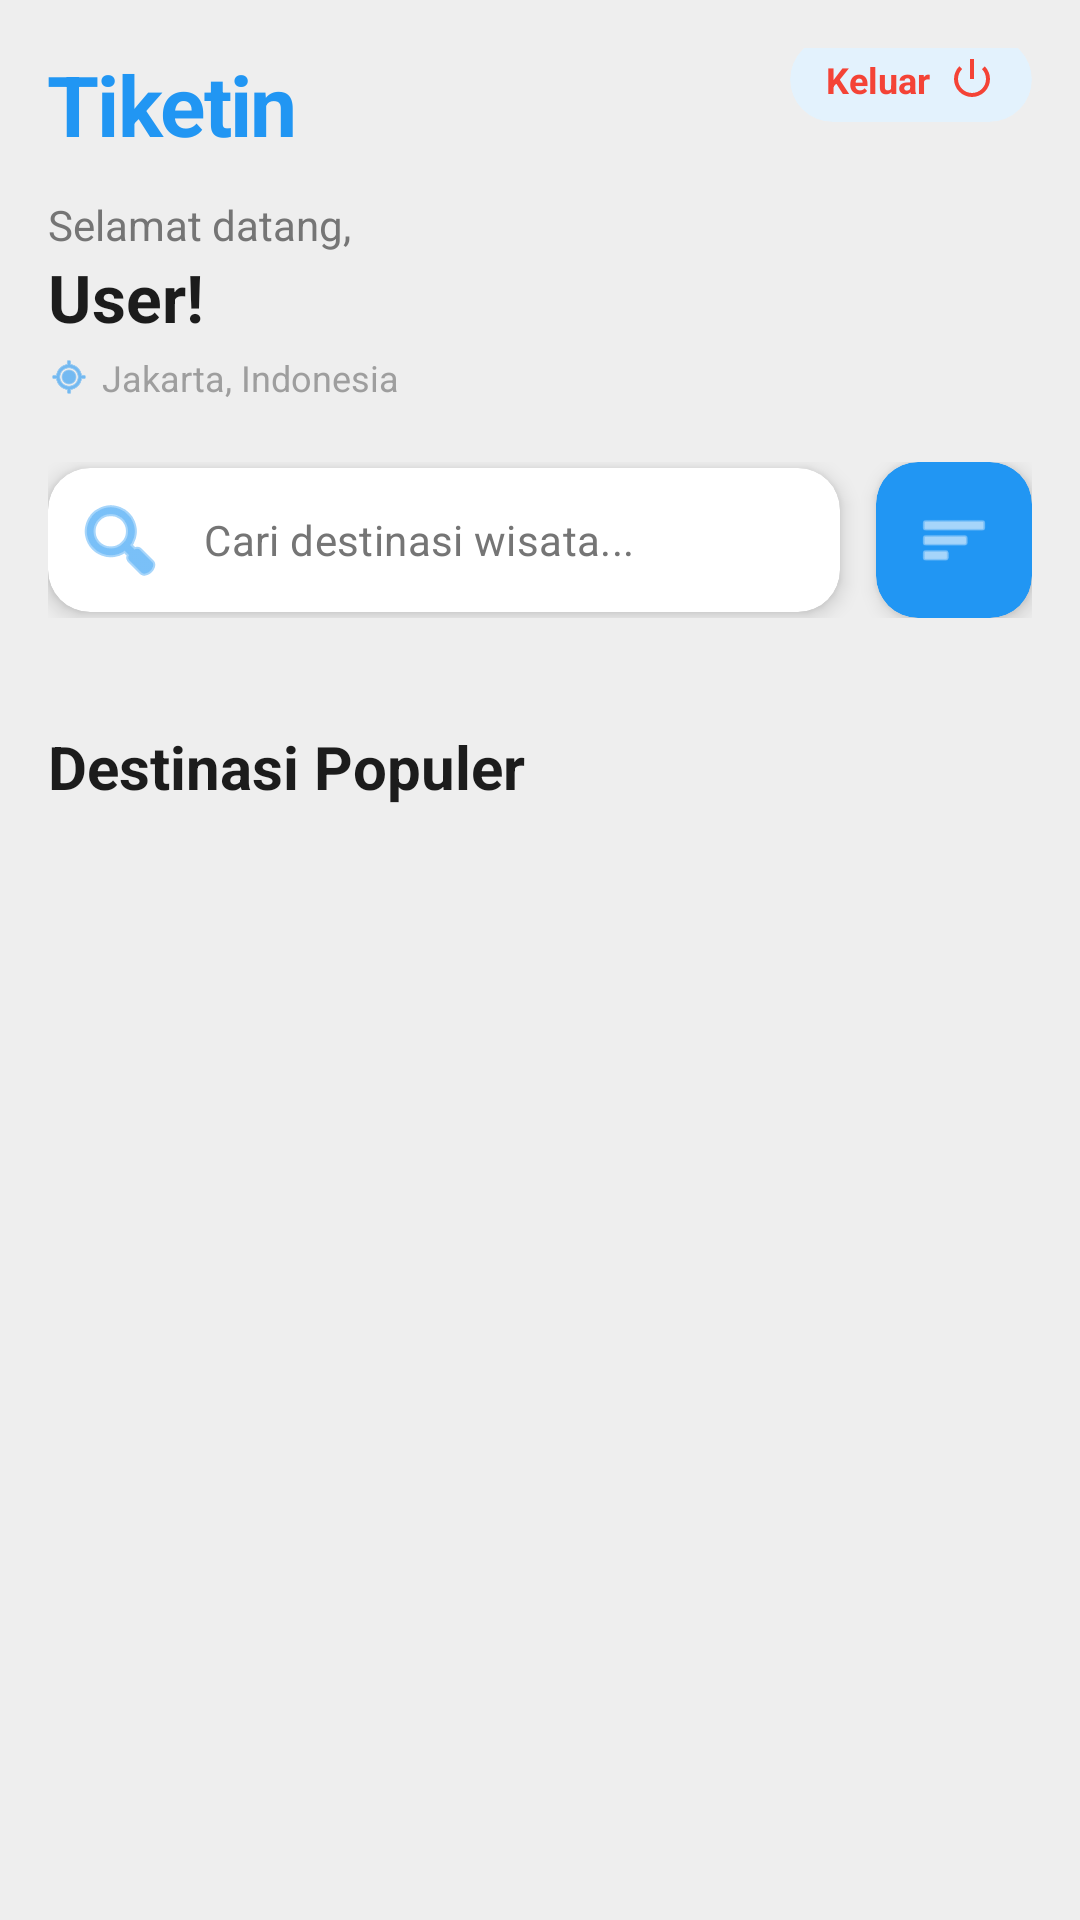

Named icons in this screenshot (1080 × 1920) and their bounding boxes, [x1,y1,x2,y2]:
lock power off: [954,59,990,97]
mylocation: [52,360,86,394]
sort by size: [923,520,985,561]
